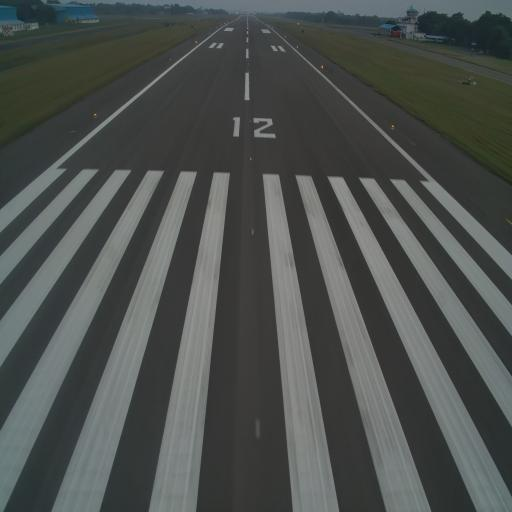on: (250, 415, 264, 443), (250, 224, 256, 238), (390, 120, 396, 132), (92, 109, 98, 119), (249, 156, 253, 166), (249, 118, 252, 124), (321, 64, 324, 70), (249, 96, 251, 101), (170, 57, 171, 62)
